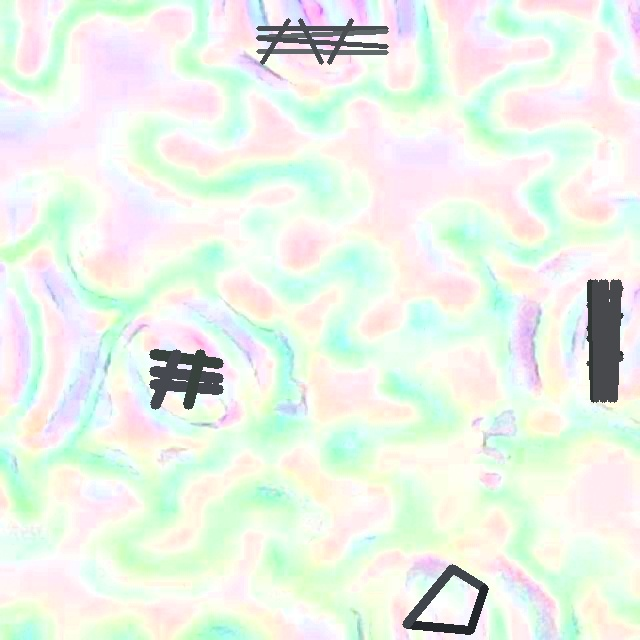close: (402, 564, 488, 634)
open: (257, 19, 387, 64), (586, 279, 623, 402), (149, 349, 222, 409)
